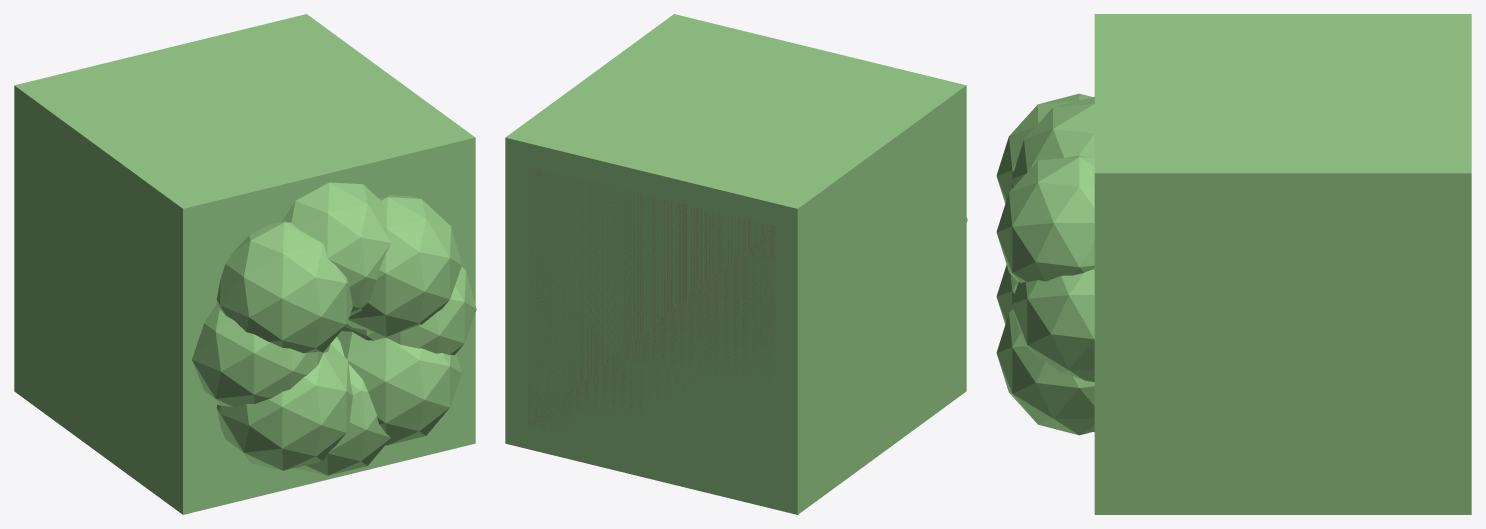
File: 19_vale_canopy.glb
The picture shows the model from 3 angles, left to right: view 1: azimuth 30°, elevation 25°; view 2: azimuth 150°, elevation 25°; view 3: azimuth 270°, elevation 25°; orthographic projection. The views are drawn at different scales.
Visible parts, largest first — view 1: Core, Leaf_3, Leaf_5, Leaf_1, Leaf_7, Leaf_4, Leaf_2, Leaf_6, Leaf_0; view 2: Core, Soil; view 3: Core, Leaf_1, Leaf_0, Leaf_7, Leaf_2, Leaf_3, Leaf_5.
Part boxes in pixels (box(x1,y1,x2,y2)): Core: box(14, 14, 475, 514); Leaf_3: box(216, 221, 352, 353); Leaf_5: box(216, 344, 352, 470); Leaf_1: box(347, 195, 461, 336); Leaf_7: box(336, 331, 461, 445); Leaf_4: box(192, 303, 330, 407); Leaf_2: box(282, 182, 390, 316); Leaf_6: box(295, 337, 390, 475); Leaf_0: box(341, 267, 476, 355); Core: box(505, 14, 966, 514); Soil: box(527, 166, 775, 452); Core: box(1094, 14, 1471, 514); Leaf_1: box(996, 155, 1094, 283); Leaf_0: box(1011, 269, 1094, 381); Leaf_7: box(996, 309, 1094, 435); Leaf_2: box(1011, 96, 1094, 186); Leaf_3: box(996, 93, 1092, 203); Leaf_5: box(996, 265, 1018, 324).
Bounding box in the file's own units: 1 × 1 × 1.26.
